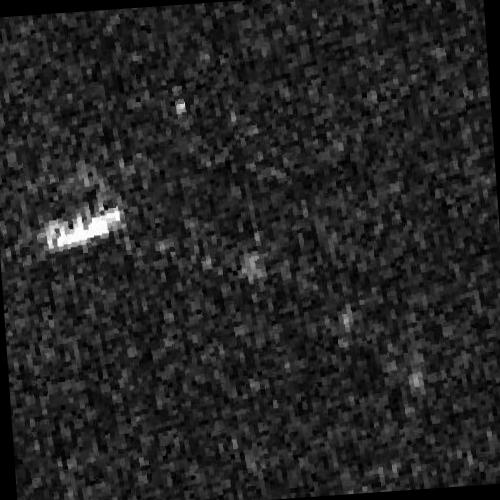ship: (37, 204, 124, 253)
